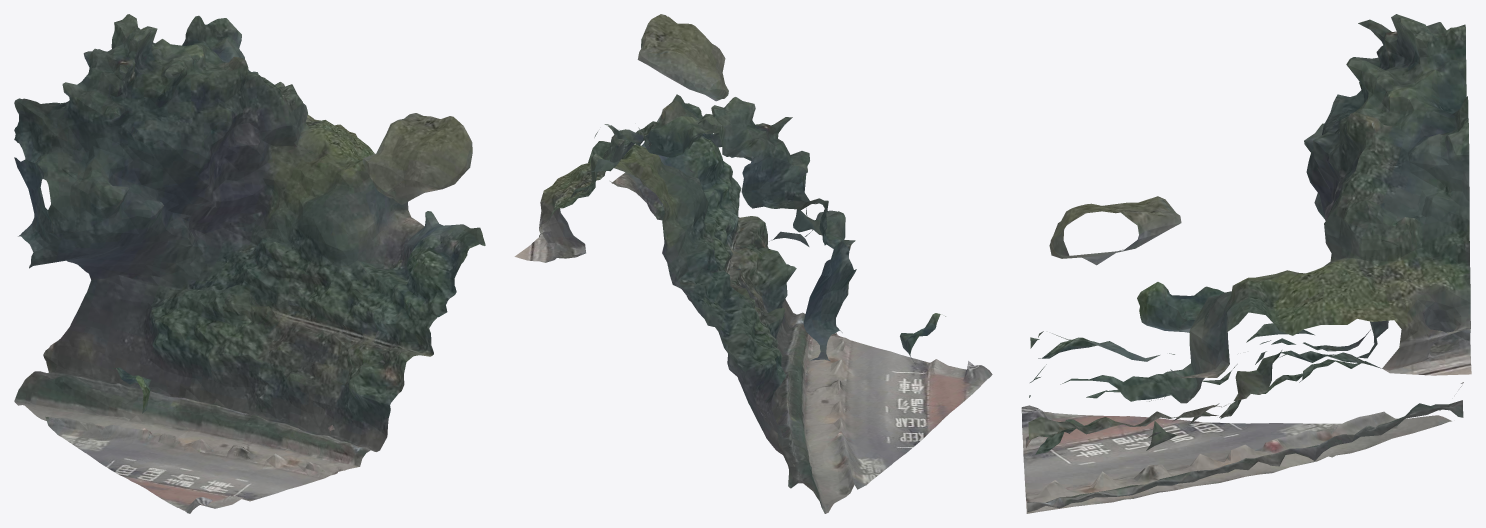
Rendered from Tile_+011_+009_L20_000003130.glb.
3 renders of one model, left to right at view 1: azimuth 30°, elevation 25°; view 2: azimuth 150°, elevation 25°; view 3: azimuth 270°, elevation 25°, orthographic. The views are drawn at different scales.
Visible parts, largest first — view 1: rtc; view 2: rtc; view 3: rtc.
Part boxes in pixels (box(x1,y1,x2,y2)): rtc: box(14, 14, 485, 513); rtc: box(514, 14, 992, 513); rtc: box(1021, 14, 1471, 513).
Bounding box in the file's own units: 32.68 × 37.44 × 32.15.
Materials: 1 (1 with a texture image).
